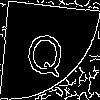Q: (24, 24, 66, 79)
